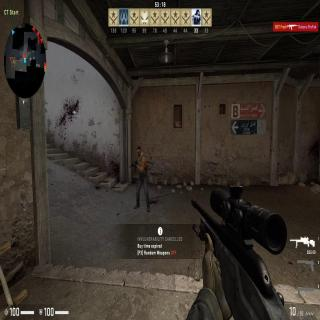T-Body: (133, 145, 151, 212)
T-Head: (136, 146, 142, 157)
